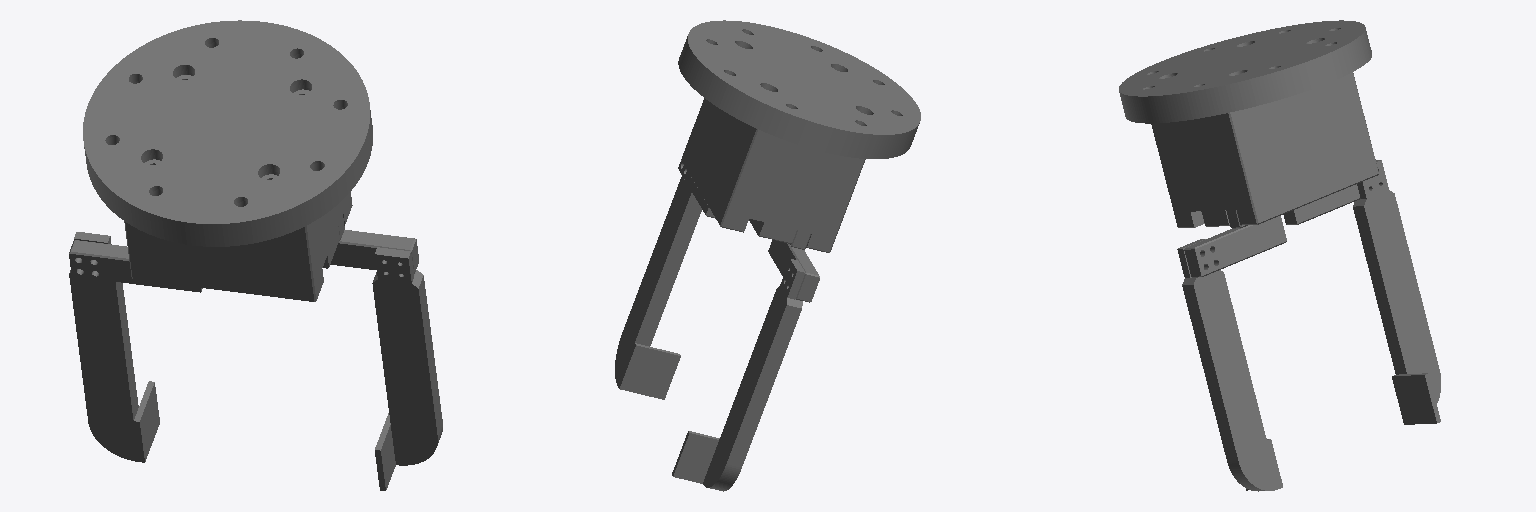
robot.urdf — custom_robots:
<?xml version="1.0" ?>
<robot name="custom_robots" version="1.0">
  <material name="black">
    <color rgba="0.0 0.0 0.0 1.0"/>
  </material>
  <material name="blue">
    <color rgba="0.0 0.0 0.8 1.0"/>
  </material>
  <material name="green">
    <color rgba="0.0 0.8 0.0 1.0"/>
  </material>
  <material name="grey_">
    <color rgba="0.2 0.2 0.2 1.0"/>
  </material>
  <material name="orange">
    <color rgba="1.0 0.423529411765 0.0392156862745 1.0"/>
  </material>
  <material name="brown">
    <color rgba="0.870588235294 0.811764705882 0.764705882353 1.0"/>
  </material>
  <material name="red">
    <color rgba="0.8 0.0 0.0 1.0"/>
  </material>
  <material name="white">
    <color rgba="1.0 1.0 1.0 1.0"/>
  </material>
  <material name="metal">
    <color rgba="0.76862745098 0.749019607843 0.729411764706 1.0"/>
  </material>
  <material name="metal_grey">
    <color rgba="0.501960784314 0.501960784314 0.501960784314 1.0"/>
  </material>
  <material name="metal_white">
    <color rgba="0.866666666667 0.866666666667 0.890196078431 1.0"/>
  </material>
  <link name="base_link"/>
  <joint name="indy0_joint_base_link" type="fixed">
    <origin rpy="-0.00313377464597 0.00761310704768 -1.57110754938" xyz="-0.487280011177 0.264443635941 0.0157945752144"/>
    <parent link="base_link"/>
    <child link="indy0_link0"/>
  </joint>
  <link name="indy0_link0">
    <inertial>
      <origin rpy="0.0 0.0 0.0" xyz="0.0 0.0 0.0"/>
      <mass value="1.59306955"/>
      <inertia ixx="0.00572623" ixy="2.51e-06" ixz="-0.0001138" iyy="0.00558959" iyz="-1.4e-07" izz="0.00966674"/>
    </inertial>
    <visual>
      <origin rpy="0.0 0.0 0.0" xyz="0.0 0.0 0.0"/>
      <geometry>
        <mesh filename="package://indy7_description/meshes/stl/Indy7_0.stl"/>
      </geometry>
      <material name="metal_grey"/>
    </visual>
    <collision>
      <origin rpy="-0.0 1.57079633 0.0" xyz="-0.1 0.0 0.03"/>
      <geometry>
        <cylinder length="0.2" radius="0.05"/>
      </geometry>
    </collision>
  </link>
  <link name="indy0_link1">
    <inertial>
      <origin rpy="0.0 0.0 0.0" xyz="0.0 0.0 0.0"/>
      <mass value="11.8030102"/>
      <inertia ixx="0.15418559" ixy="-2.35e-06" ixz="1.739e-05" iyy="0.12937017" iyz="-0.04854267" izz="0.05964415"/>
    </inertial>
    <visual>
      <origin rpy="0.0 0.0 0.0" xyz="0.0 0.0 0.0"/>
      <geometry>
        <mesh filename="package://indy7_description/meshes/stl/Indy7_1.stl"/>
      </geometry>
      <material name="metal_grey"/>
    </visual>
    <collision>
      <origin rpy="0.0 0.0 0.0" xyz="0.0 0.0 0.072"/>
      <geometry>
        <cylinder length="0.3" radius="0.1"/>
      </geometry>
    </collision>
  </link>
  <link name="indy0_link2">
    <inertial>
      <origin rpy="0.0 0.0 0.0" xyz="0.0 0.0 0.0"/>
      <mass value="7.99292141"/>
      <inertia ixx="0.2935698" ixy="-4e-07" ixz="1.441e-05" iyy="0.28094142" iyz="0.03727972" izz="0.03620609"/>
    </inertial>
    <visual>
      <origin rpy="0.0 0.0 0.0" xyz="0.0 0.0 0.0"/>
      <geometry>
        <mesh filename="package://indy7_description/meshes/stl/Indy7_2.stl"/>
      </geometry>
      <material name="metal_grey"/>
    </visual>
    <collision>
      <origin rpy="1.57079632679 0.0 -1.57079632679" xyz="-0.225 0.0 0.09"/>
      <geometry>
        <cylinder length="0.45" radius="0.073"/>
      </geometry>
    </collision>
    <collision>
      <origin rpy="0.0 0.0 0.0" xyz="0.0 0.0 -0.01"/>
      <geometry>
        <cylinder length="0.2" radius="0.085"/>
      </geometry>
    </collision>
  </link>
  <link name="indy0_link3">
    <inertial>
      <origin rpy="0.0 0.0 0.0" xyz="0.0 0.0 0.0"/>
      <mass value="2.99134127"/>
      <inertia ixx="0.03424593" ixy="1.49e-06" ixz="7.24e-06" iyy="0.03406024" iyz="0.00186009" izz="0.00450477"/>
    </inertial>
    <visual>
      <origin rpy="0.0 0.0 0.0" xyz="0.0 0.0 0.0"/>
      <geometry>
        <mesh filename="package://indy7_description/meshes/stl/Indy7_3.stl"/>
      </geometry>
      <material name="metal_grey"/>
    </visual>
    <collision>
      <origin rpy="0.0 0.0 0.0" xyz="0.0 0.0 0.03"/>
      <geometry>
        <cylinder length="0.2" radius="0.065"/>
      </geometry>
    </collision>
  </link>
  <link name="indy0_link4">
    <inertial>
      <origin rpy="0.0 0.0 0.0" xyz="0.0 0.0 0.0"/>
      <mass value="2.12317035"/>
      <inertia ixx="0.00670405" ixy="3.75e-06" ixz="1.5e-06" iyy="0.00279246" iyz="-0.00127967" izz="0.00619341"/>
    </inertial>
    <visual>
      <origin rpy="0.0 0.0 0.0" xyz="0.0 0.0 0.0"/>
      <geometry>
        <mesh filename="package://indy7_description/meshes/stl/Indy7_4.stl"/>
      </geometry>
      <material name="metal_grey"/>
    </visual>
    <collision>
      <origin rpy="0.0 0.0 0.0" xyz="0.0 0.0 -0.092"/>
      <geometry>
        <cylinder length="0.35" radius="0.06"/>
      </geometry>
    </collision>
  </link>
  <link name="indy0_link5">
    <inertial>
      <origin rpy="0.0 0.0 0.0" xyz="0.0 0.0 0.0"/>
      <mass value="2.28865091"/>
      <inertia ixx="0.00994891" ixy="1.4e-07" ixz="3.21e-06" iyy="0.00978189" iyz="-0.00093546" izz="0.00271492"/>
    </inertial>
    <visual>
      <origin rpy="0.0 0.0 0.0" xyz="0.0 0.0 0.0"/>
      <geometry>
        <mesh filename="package://indy7_description/meshes/stl/Indy7_5.stl"/>
      </geometry>
      <material name="metal_grey"/>
    </visual>
    <collision>
      <origin rpy="0.0 0.0 0.0" xyz="-0.0 0.0 -0.0225"/>
      <geometry>
        <cylinder length="0.183" radius="0.055"/>
      </geometry>
    </collision>
  </link>
  <link name="indy0_link6">
    <inertial>
      <origin rpy="0.0 0.0 0.0" xyz="0.0 0.0 0.0"/>
      <mass value="0.40083918"/>
      <inertia ixx="0.00043534" ixy="1.3e-07" ixz="-2e-08" iyy="0.00044549" iyz="5.1e-07" izz="0.00059634"/>
    </inertial>
    <visual>
      <origin rpy="0.0 0.0 0.0" xyz="0.0 0.0 0.0"/>
      <geometry>
        <mesh filename="package://indy7_description/meshes/stl/Indy7_6.stl"/>
      </geometry>
      <material name="metal_grey"/>
    </visual>
    <collision>
      <origin rpy="0.0 0.0 0.0" xyz="0.0 0.0 -0.038"/>
      <geometry>
        <cylinder length="0.25" radius="0.06"/>
      </geometry>
    </collision>
  </link>
  <link name="indy0_tcp">
    <visual>
      <origin rpy="0.0 0.0 1.570796" xyz="0.0 0.0 0.0"/>
      <geometry>
        <mesh filename="package://my_mesh/meshes/stl/indy_gripper_asm2_res.STL"/>
      </geometry>
      <material name="metal_grey"/>
    </visual>
    <collision>
      <origin rpy="0.0 0.0 0.0" xyz="0.006 0.045 0.1"/>
      <geometry>
        <cylinder length="0.083" radius="0.015"/>
      </geometry>
    </collision>
    <collision>
      <origin rpy="0.0 0.0 0.0" xyz="-0.006 0.045 0.1"/>
      <geometry>
        <cylinder length="0.083" radius="0.015"/>
      </geometry>
    </collision>
    <collision>
      <origin rpy="0.0 0.0 0.0" xyz="0.006 -0.045 0.1"/>
      <geometry>
        <cylinder length="0.083" radius="0.015"/>
      </geometry>
    </collision>
    <collision>
      <origin rpy="0.0 0.0 0.0" xyz="-0.006 -0.045 0.1"/>
      <geometry>
        <cylinder length="0.083" radius="0.015"/>
      </geometry>
    </collision>
  </link>
  <joint name="indy0_joint0" type="revolute">
    <origin rpy="0.0 0.0 0.0" xyz="0.0 0.0 0.0775"/>
    <axis xyz="0.0 0.0 1.0"/>
    <parent link="indy0_link0"/>
    <child link="indy0_link1"/>
    <limit effort="3.14159265359" lower="-3.05432619099" upper="3.05432619099" velocity="0.654498469498"/>
  </joint>
  <joint name="indy0_joint1" type="revolute">
    <origin rpy="1.57079632679 1.57079632679 0.0" xyz="0.0 -0.109 0.222"/>
    <axis xyz="0.0 0.0 1.0"/>
    <parent link="indy0_link1"/>
    <child link="indy0_link2"/>
    <limit effort="3.14159265359" lower="-3.05432619099" upper="3.05432619099" velocity="0.654498469498"/>
  </joint>
  <joint name="indy0_joint2" type="revolute">
    <origin rpy="0.0 0.0 0.0" xyz="-0.45 0.0 -0.0305"/>
    <axis xyz="0.0 0.0 1.0"/>
    <parent link="indy0_link2"/>
    <child link="indy0_link3"/>
    <limit effort="3.14159265359" lower="-3.05432619099" upper="3.05432619099" velocity="0.654498469498"/>
  </joint>
  <joint name="indy0_joint3" type="revolute">
    <origin rpy="-1.57079632679 0.0 1.57079632679" xyz="-0.267 0.0 -0.075"/>
    <axis xyz="0.0 0.0 1.0"/>
    <parent link="indy0_link3"/>
    <child link="indy0_link4"/>
    <limit effort="3.14159265359" lower="-3.05432619099" upper="3.05432619099" velocity="0.785398163397"/>
  </joint>
  <joint name="indy0_joint4" type="revolute">
    <origin rpy="1.57079632679 1.57079632679 0.0" xyz="0.0 -0.114 0.083"/>
    <axis xyz="0.0 0.0 1.0"/>
    <parent link="indy0_link4"/>
    <child link="indy0_link5"/>
    <limit effort="3.14159265359" lower="-3.05432619099" upper="3.05432619099" velocity="0.785398163397"/>
  </joint>
  <joint name="indy0_joint5" type="revolute">
    <origin rpy="-1.57079632679 0.0 1.57079632679" xyz="-0.168 0.0 0.069"/>
    <axis xyz="0.0 0.0 1.0"/>
    <parent link="indy0_link5"/>
    <child link="indy0_link6"/>
    <limit effort="3.14159265359" lower="-3.75245789179" upper="3.75245789179" velocity="0.785398163397"/>
  </joint>
  <joint name="indy0_tcp" type="fixed">
    <origin rpy="0.0 0.0 0.0" xyz="0.0 0.0 0.06"/>
    <parent link="indy0_link6"/>
    <child link="indy0_tcp"/>
  </joint>
  <transmission name="indy0_tran0">
    <type>transmission_interface/SimpleTransmission</type>
    <joint name="indy0_joint0">
      <hardwareInterface>PositionJointInterface</hardwareInterface>
    </joint>
    <actuator name="indy0_motor0">
      <mechanicalReduction>1.0</mechanicalReduction>
    </actuator>
  </transmission>
  <transmission name="indy0_tran1">
    <type>transmission_interface/SimpleTransmission</type>
    <joint name="indy0_joint1">
      <hardwareInterface>PositionJointInterface</hardwareInterface>
    </joint>
    <actuator name="indy0_motor1">
      <mechanicalReduction>1.0</mechanicalReduction>
    </actuator>
  </transmission>
  <transmission name="indy0_tran2">
    <type>transmission_interface/SimpleTransmission</type>
    <joint name="indy0_joint2">
      <hardwareInterface>PositionJointInterface</hardwareInterface>
    </joint>
    <actuator name="indy0_motor2">
      <mechanicalReduction>1.0</mechanicalReduction>
    </actuator>
  </transmission>
  <transmission name="indy0_tran3">
    <type>transmission_interface/SimpleTransmission</type>
    <joint name="indy0_joint3">
      <hardwareInterface>PositionJointInterface</hardwareInterface>
    </joint>
    <actuator name="indy0_motor3">
      <mechanicalReduction>1.0</mechanicalReduction>
    </actuator>
  </transmission>
  <transmission name="indy0_tran4">
    <type>transmission_interface/SimpleTransmission</type>
    <joint name="indy0_joint4">
      <hardwareInterface>PositionJointInterface</hardwareInterface>
    </joint>
    <actuator name="indy0_motor4">
      <mechanicalReduction>1.0</mechanicalReduction>
    </actuator>
  </transmission>
  <transmission name="indy0_tran5">
    <type>transmission_interface/SimpleTransmission</type>
    <joint name="indy0_joint5">
      <hardwareInterface>PositionJointInterface</hardwareInterface>
    </joint>
    <actuator name="indy0_motor5">
      <mechanicalReduction>1.0</mechanicalReduction>
    </actuator>
  </transmission>
  <joint name="panda1_joint_base_link" type="fixed">
    <origin rpy="0.0 -0.0 0.0" xyz="-0.0 -0.0 -0.333000004292"/>
    <parent link="panda1_link0"/>
    <child link="stem"/>
  </joint>
  <link name="panda1_link0">
    <visual>
      <origin rpy="0.0 -0.0 0.0" xyz="0.0 0.0 -0.333000004292"/>
      <geometry>
        <mesh filename="package://franka_description/meshes/visual/link0.dae"/>
      </geometry>
    </visual>
    <collision>
      <origin rpy="3.14159265 -1.37340076987 3.14159265" xyz="-0.0299999993294 0.0 -0.303000003099"/>
      <geometry>
        <cylinder length="0.102" radius="0.1"/>
      </geometry>
    </collision>
    <collision>
      <origin rpy="1.57079633 -0.0 0.0" xyz="-0.0500000007451 0.0 -0.303000003099"/>
      <geometry>
        <cylinder length="0.3" radius="0.05"/>
      </geometry>
    </collision>
  </link>
  <link name="panda1_link1">
    <visual>
      <origin rpy="1.57079632679 -0.0 0.0" xyz="0.0 0.0 0.0"/>
      <geometry>
        <mesh filename="package://franka_description/meshes/visual/link1.dae"/>
      </geometry>
    </visual>
    <collision>
      <origin rpy="-1.14103405447 -0.0 0.0" xyz="0.0 0.0750000029802 -0.027499999851"/>
      <geometry>
        <cylinder length="0.132" radius="0.11"/>
      </geometry>
    </collision>
  </link>
  <joint name="panda1_joint1" type="revolute">
    <origin rpy="1.57079632679 -0.0 0.0" xyz="-0.0 -0.0 -0.0"/>
    <axis xyz="0.0 0.0 1.0"/>
    <parent link="panda1_link1"/>
    <child link="panda1_link0"/>
    <limit effort="3.14159265359" lower="-2.75" upper="2.75" velocity="0.654498469498"/>
    <safety_controller k_position="100.0" k_velocity="40.0" soft_lower_limit="-2.75" soft_upper_limit="2.75"/>
  </joint>
  <link name="panda1_link2">
    <visual>
      <origin rpy="-1.57079632679 -0.0 0.0" xyz="0.0 1.54732216623e-12 -0.316000014544"/>
      <geometry>
        <mesh filename="package://franka_description/meshes/visual/link2.dae"/>
      </geometry>
    </visual>
    <collision>
      <origin rpy="0.41241044501 -0.0 0.0" xyz="0.0 0.035000000149 -0.236000016332"/>
      <geometry>
        <cylinder length="0.175" radius="0.09"/>
      </geometry>
    </collision>
  </link>
  <joint name="panda1_joint2" type="revolute">
    <origin rpy="-1.57079632679 -0.0 0.0" xyz="-0.0 1.54732216623e-12 -0.316000014544"/>
    <axis xyz="0.0 0.0 1.0"/>
    <parent link="panda1_link2"/>
    <child link="panda1_link1"/>
    <limit effort="3.14159265359" lower="-1.7" upper="1.7" velocity="0.654498469498"/>
    <safety_controller k_position="100.0" k_velocity="40.0" soft_lower_limit="-1.7" soft_upper_limit="1.7"/>
  </joint>
  <link name="panda1_link3">
    <visual>
      <origin rpy="-1.57079632679 -0.0 0.0" xyz="-0.0825000032783 0.0 0.0"/>
      <geometry>
        <mesh filename="package://franka_description/meshes/visual/link3.dae"/>
      </geometry>
    </visual>
    <collision>
      <origin rpy="-0.837979039329 -0.827091928922 1.70460287535" xyz="-0.0425000041723 -0.035000000149 -0.0270000007004"/>
      <geometry>
        <cylinder length="0.12" radius="0.09"/>
      </geometry>
    </collision>
  </link>
  <joint name="panda1_joint3" type="revolute">
    <origin rpy="-1.57079632679 -0.0 0.0" xyz="-0.0825000032783 -0.0 -0.0"/>
    <axis xyz="0.0 0.0 1.0"/>
    <parent link="panda1_link3"/>
    <child link="panda1_link2"/>
    <limit effort="3.14159265359" lower="-2.75" upper="2.75" velocity="0.654498469498"/>
    <safety_controller k_position="100.0" k_velocity="40.0" soft_lower_limit="-2.75" soft_upper_limit="2.75"/>
  </joint>
  <link name="panda1_link4">
    <visual>
      <origin rpy="1.57079632679 -0.0 0.0" xyz="0.0825000032783 -1.88029019438e-12 -0.384000003338"/>
      <geometry>
        <mesh filename="package://franka_description/meshes/visual/link4.dae"/>
      </geometry>
    </visual>
    <collision>
      <origin rpy="0.426982301215 -0.719163938304 -1.0572056574" xyz="0.027000002563 -0.0270000007004 -0.326000005007"/>
      <geometry>
        <cylinder length="0.17" radius="0.08"/>
      </geometry>
    </collision>
  </link>
  <joint name="panda1_joint4" type="revolute">
    <origin rpy="1.57079632679 -0.0 0.0" xyz="0.0825000032783 -1.88029019438e-12 -0.384000003338"/>
    <axis xyz="0.0 0.0 1.0"/>
    <parent link="panda1_link4"/>
    <child link="panda1_link3"/>
    <limit effort="3.14159265359" lower="0.1" upper="2.9" velocity="0.654498469498"/>
    <safety_controller k_position="100.0" k_velocity="40.0" soft_lower_limit="0.1" soft_upper_limit="2.9"/>
  </joint>
  <link name="panda1_link5">
    <visual>
      <origin rpy="-1.57079632679 -0.0 0.0" xyz="0.0 0.0 0.0"/>
      <geometry>
        <mesh filename="package://franka_description/meshes/visual/link5.dae"/>
      </geometry>
    </visual>
    <collision>
      <origin rpy="1.30344094827 -0.0 0.0" xyz="0.0 -0.115000002086 -0.0315000005066"/>
      <geometry>
        <cylinder length="0.2" radius="0.08"/>
      </geometry>
    </collision>
    <collision>
      <origin rpy="3.14159265038 -3.2002069883e-09 -1.57079632679" xyz="0.0 1.54242544843e-13 -0.0315000005066"/>
      <geometry>
        <cylinder length="0.12" radius="0.06"/>
      </geometry>
    </collision>
  </link>
  <joint name="panda1_joint5" type="revolute">
    <origin rpy="-1.57079632679 -0.0 0.0" xyz="-0.0 -0.0 -0.0"/>
    <axis xyz="0.0 0.0 1.0"/>
    <parent link="panda1_link5"/>
    <child link="panda1_link4"/>
    <limit effort="3.14159265359" lower="-2.75" upper="2.75" velocity="0.785398163397"/>
    <safety_controller k_position="100.0" k_velocity="40.0" soft_lower_limit="-2.75" soft_upper_limit="2.75"/>
  </joint>
  <link name="panda1_link6">
    <visual>
      <origin rpy="-1.57079632679 -0.0 0.0" xyz="-0.0879999995232 0.0 0.0"/>
      <geometry>
        <mesh filename="package://franka_description/meshes/visual/link6.dae"/>
      </geometry>
    </visual>
    <collision>
      <origin rpy="-1.57079632679 -4.89658877681e-12 1.57079633" xyz="-0.0529999993742 0.0 0.0"/>
      <geometry>
        <cylinder length="0.09" radius="0.065"/>
      </geometry>
    </collision>
    <collision>
      <origin rpy="3.21000004355e-09 -0.0 0.0" xyz="0.00200000405312 -4.89658870905e-14 0.00999999977648"/>
      <geometry>
        <cylinder length="0.13" radius="0.05"/>
      </geometry>
    </collision>
    <collision>
      <origin rpy="-1.37079633217 4.89658877681e-12 -1.57079633" xyz="-0.00299999862909 2.4482943884e-13 -0.0500000007451"/>
      <geometry>
        <cylinder length="0.08" radius="0.04"/>
      </geometry>
    </collision>
  </link>
  <joint name="panda1_joint6" type="revolute">
    <origin rpy="-1.57079632679 -0.0 0.0" xyz="-0.0879999995232 -0.0 -0.0"/>
    <axis xyz="0.0 0.0 1.0"/>
    <parent link="panda1_link6"/>
    <child link="panda1_link5"/>
    <limit effort="3.14159265359" lower="-3.6" upper="-0.1" velocity="0.785398163397"/>
    <safety_controller k_position="100.0" k_velocity="40.0" soft_lower_limit="-3.6" soft_upper_limit="-0.1"/>
  </joint>
  <link name="panda1_link7">
    <visual>
      <origin rpy="0.0 -0.0 0.0" xyz="0.0 0.0 -0.107000000775"/>
      <geometry>
        <mesh filename="package://franka_description/meshes/visual/link7.dae"/>
      </geometry>
    </visual>
  </link>
  <joint name="panda1_joint7" type="revolute">
    <origin rpy="0.0 -0.0 0.0" xyz="-0.0 -0.0 -0.107000000775"/>
    <axis xyz="0.0 0.0 1.0"/>
    <parent link="panda1_link7"/>
    <child link="panda1_link6"/>
    <limit effort="3.14159265359" lower="-2.75" upper="2.75" velocity="0.785398163397"/>
    <safety_controller k_position="100.0" k_velocity="40.0" soft_lower_limit="-2.75" soft_upper_limit="2.75"/>
  </joint>
  <link name="panda1_link8"/>
  <joint name="panda1_joint8" type="fixed">
    <origin rpy="0.0 -0.0 0.785398163397" xyz="-0.0 -0.0 -0.0"/>
    <axis xyz="0.0 0.0 0.0"/>
    <parent link="panda1_link8"/>
    <child link="panda1_link7"/>
  </joint>
  <joint name="panda1_hand_joint" type="fixed">
    <origin rpy="0.0 -0.0 0.0" xyz="0.0 0.0 0.0"/>
    <parent link="panda1_hand"/>
    <child link="panda1_link8"/>
  </joint>
  <link name="panda1_hand">
    <visual>
      <origin rpy="0.0 -0.0 0.0" xyz="0.0 0.0 0.0"/>
      <geometry>
        <mesh filename="package://franka_description/meshes/visual/hand.dae"/>
      </geometry>
    </visual>
    <collision>
      <origin rpy="1.57079633 -0.0 0.0" xyz="0.0 0.0 0.0299999993294"/>
      <geometry>
        <cylinder length="0.16" radius="0.045"/>
      </geometry>
    </collision>
    <collision>
      <origin rpy="-0.0 1.57079632359 0.0" xyz="0.0 0.070000000298 -0.019999999553"/>
      <geometry>
        <cylinder length="0.055" radius="0.02"/>
      </geometry>
    </collision>
    <collision>
      <origin rpy="1.57079633 -0.0 0.0" xyz="0.0 -0.070000000298 -0.019999999553"/>
      <geometry>
        <cylinder length="0.05" radius="0.01"/>
      </geometry>
    </collision>
  </link>
  <link name="panda1_leftfinger">
    <visual>
      <geometry>
        <mesh filename="package://franka_description/meshes/visual/finger.dae"/>
      </geometry>
    </visual>
    <collision>
      <origin rpy="-2.73268482 0.0 0.0" xyz="0.0 0.0135 0.035"/>
      <geometry>
        <cylinder length="0.0325" radius="0.018"/>
      </geometry>
    </collision>
  </link>
  <link name="panda1_rightfinger">
    <visual>
      <origin rpy="0.0 0.0 3.14159265359" xyz="0.0 0.0 0.0"/>
      <geometry>
        <mesh filename="package://franka_description/meshes/visual/finger.dae"/>
      </geometry>
    </visual>
    <collision>
      <origin rpy="-2.73268482 0.0 -3.14159265" xyz="0.0 -0.0135 0.035"/>
      <geometry>
        <cylinder length="0.0325" radius="0.018"/>
      </geometry>
    </collision>
  </link>
  <joint name="panda1_finger_joint1" type="fixed">
    <origin rpy="0.0 0.0 0.0" xyz="0.0 0.04 0.0584"/>
    <parent link="panda1_hand"/>
    <child link="panda1_leftfinger"/>
  </joint>
  <joint name="panda1_finger_joint2" type="fixed">
    <origin rpy="0.0 0.0 0.0" xyz="0.0 -0.04 0.0584"/>
    <parent link="panda1_hand"/>
    <child link="panda1_rightfinger"/>
    <mimic joint="panda1_finger_joint1"/>
  </joint>
  <link name="stem"/>
  <joint name="stem_joint_base_link" type="fixed">
    <origin rpy="-0.00283727922998 -0.000975366235613 1.59090040905" xyz="0.202490508556 -0.469275593758 -0.0180616807193"/>
    <parent link="stem"/>
    <child link="base_link"/>
  </joint>
</robot>

--- Render facts (derived) ---
3 views of the same robot in one strip: view 1: azimuth 30°, elevation 25°; view 2: azimuth 150°, elevation 25°; view 3: azimuth 270°, elevation 25° (orthographic).
Robot: custom_robots — 22 links, 21 joints (13 revolute, 8 fixed); root link panda1_hand; default pose: joints at zero except 2 at the middle of their limits (panda1_joint4 = 1.5, panda1_joint6 = -1.85).
Links seen in each view (by area): view 1: indy0_tcp; view 2: indy0_tcp; view 3: indy0_tcp.
Link boxes in pixels (x1,y1,x2,y2): indy0_tcp: [69, 20, 442, 490]; indy0_tcp: [615, 20, 920, 491]; indy0_tcp: [1119, 20, 1440, 491].
Bounding box of the posed robot: 0.1214 × 0.1141 × 0.1568 m (x, y, z).
1 mesh visuals loaded from 18 distinct referenced files (1 binary STL); not drawn: 18 (reference not matched to a file when rendering).